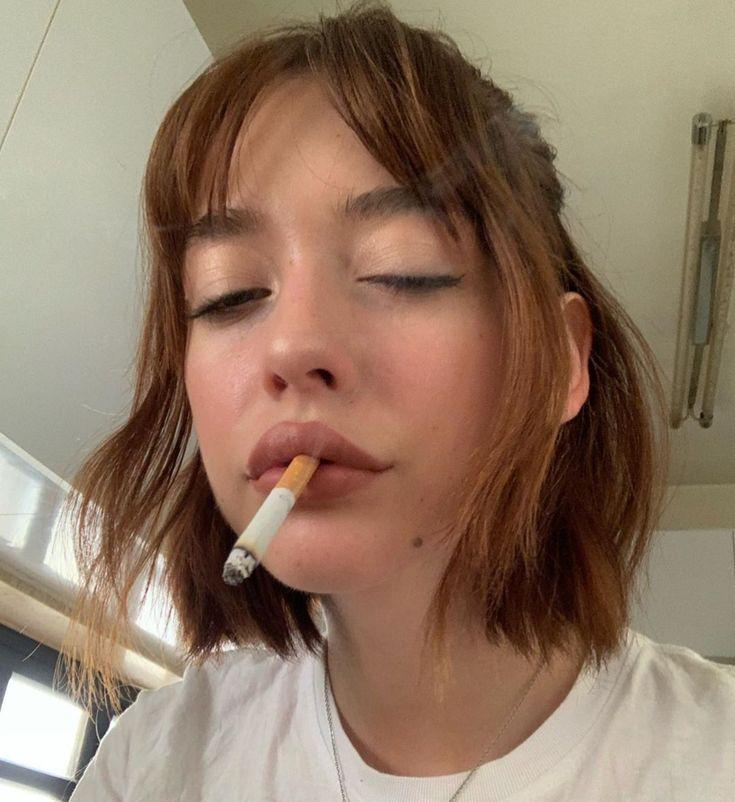cigarette: (223, 453, 322, 585)
